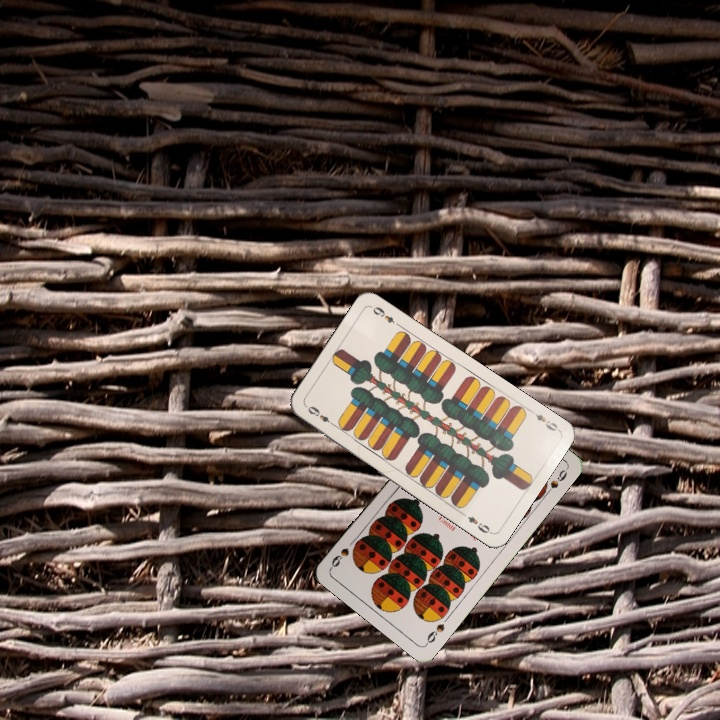E9: (526, 406, 562, 434), (302, 402, 338, 429)
S9: (422, 619, 447, 648)
